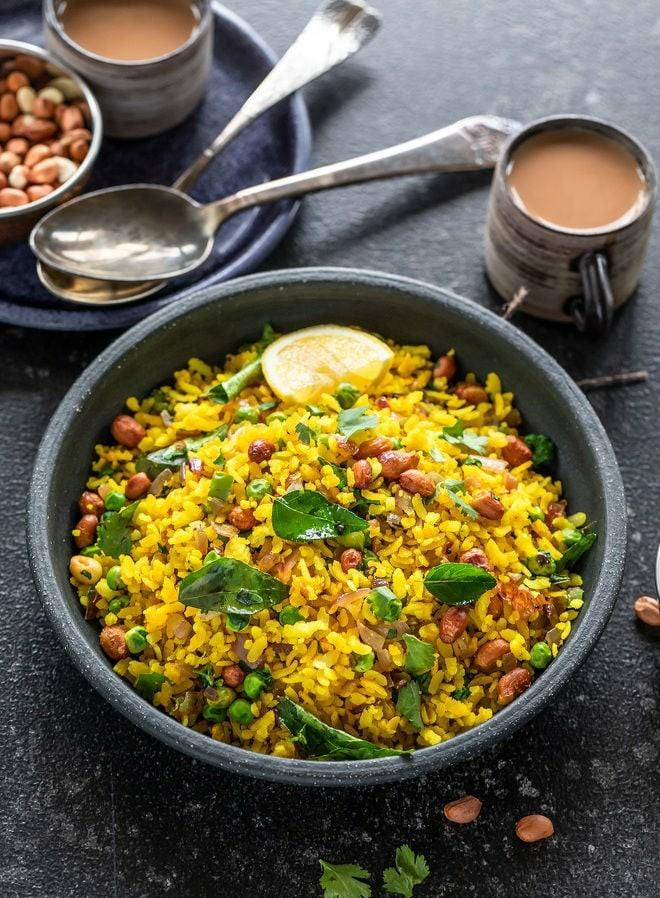Poha: (78, 318, 593, 750)
